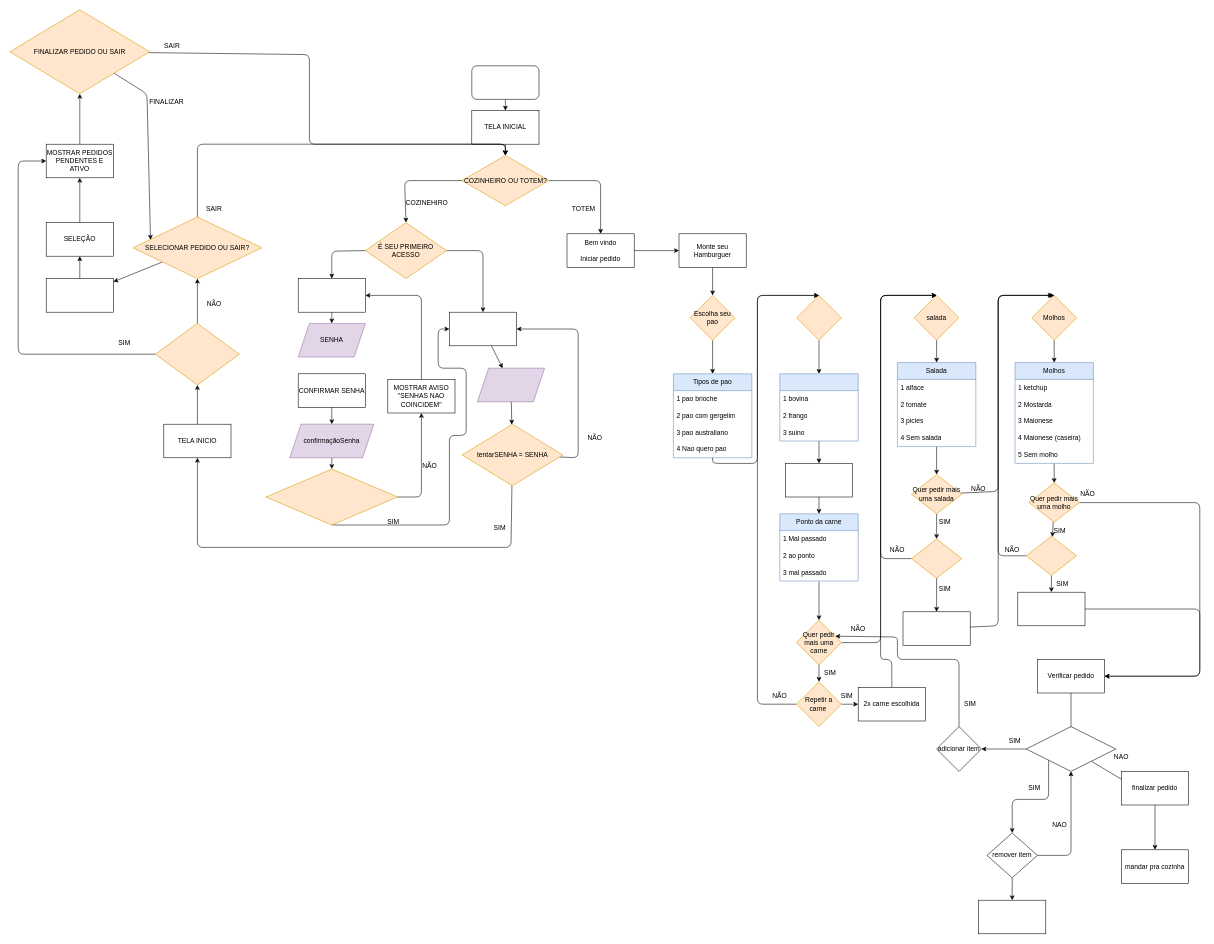
The diagram is 1214 pixels wide and 944 high, and some of its shapes have lost their labels. The box of each missing label's shape, as (x1, y1, x2, y2) in pixels:
2x molho escolhido: (1017, 592, 1085, 626)
2x salada escolhida: (902, 611, 970, 645)
Carnes: (779, 373, 858, 441)
COLOQUE A SENHA: (449, 312, 517, 346)
CRIE A SENHA: (298, 278, 365, 312)
deseja alterar o pedido: (1026, 726, 1116, 771)
escolha a carne: (796, 295, 841, 340)
Escolha o ponto da carne: (785, 463, 853, 497)
HÁ ALGUM PEDIDO ATIVO?: (155, 323, 239, 385)
INICIO: (471, 65, 539, 99)
MOSTRAR PEDIDOS: (46, 278, 113, 312)
Remova o item: (978, 900, 1046, 934)
repetir a salada: (911, 538, 962, 578)
repetir o molho: (1026, 536, 1077, 575)
SENHA = confirmaçãoSenha: (265, 468, 398, 525)
tentarSENHA: (477, 368, 545, 402)
